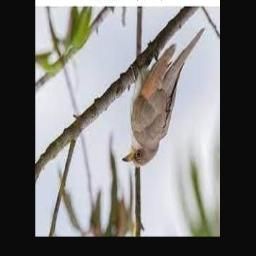Cuckoo: (122, 27, 206, 167)
